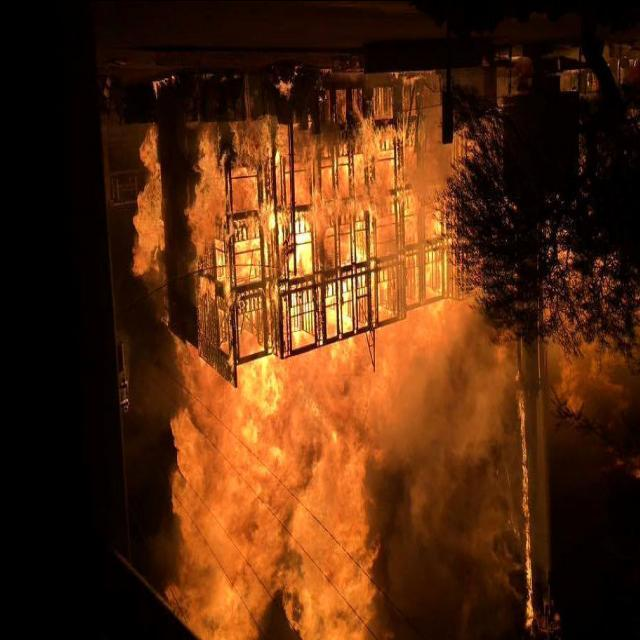Fire: (168, 78, 448, 639)
